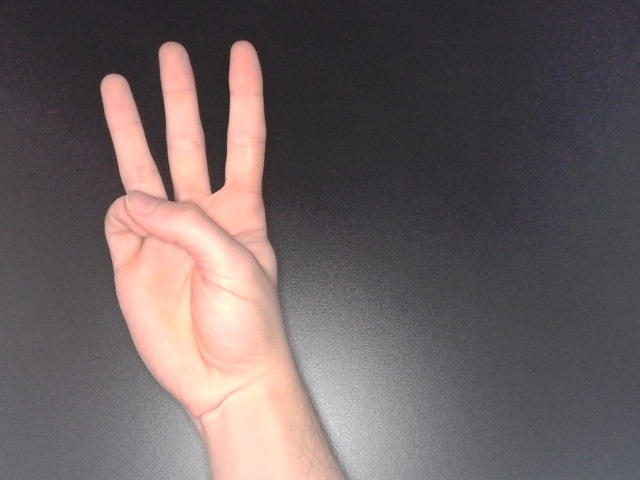w: (91, 34, 291, 429)
